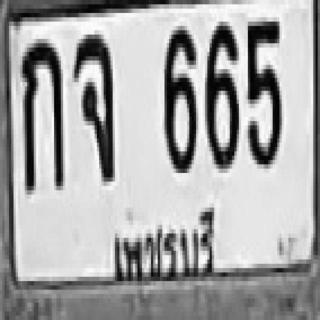A01: (20, 37, 63, 188)
A08: (72, 32, 113, 180)
N05: (246, 17, 279, 164)
N06: (162, 22, 194, 169), (205, 17, 236, 164)
P44: (102, 202, 226, 290)
